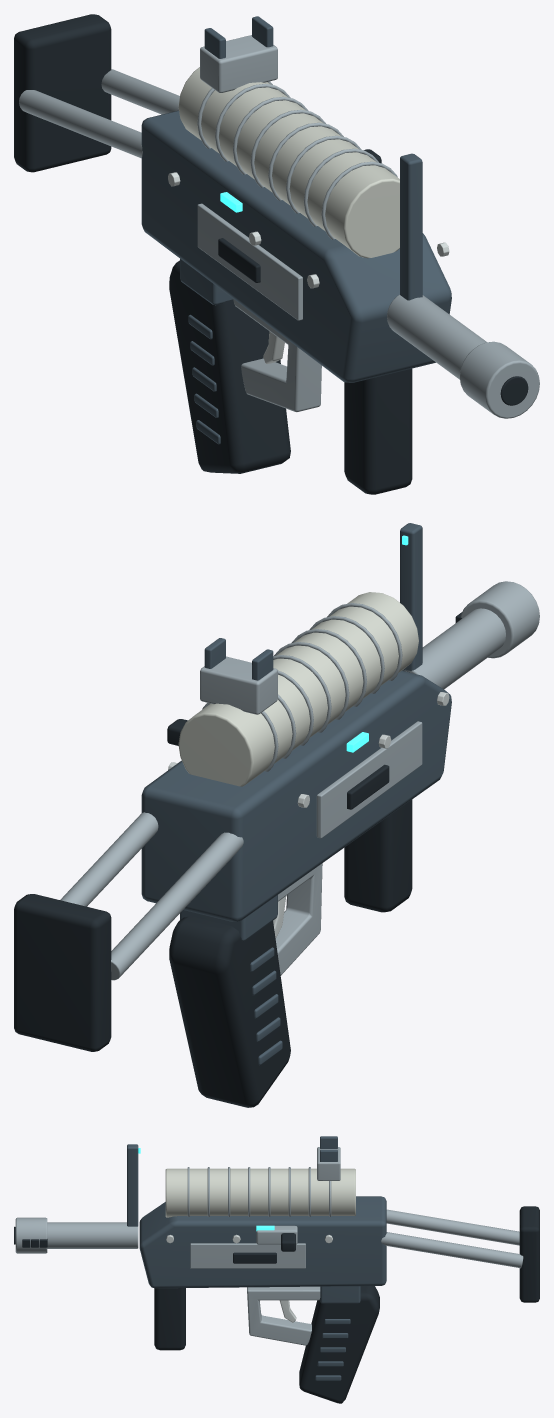
File: weapon_04.glb
3 renders of one model, top to bottom at view 1: azimuth 30°, elevation 25°; view 2: azimuth 150°, elevation 25°; view 3: azimuth 270°, elevation 25°, orthographic. The views are drawn at different scales.
Visible parts, largest first — view 1: receiver / Cerakote midnight, receiver / Titanium, receiver / Elastomer, magazine / Ceramic, pistol_grip / Elastomer, magazine / Titanium, pistol_grip / Cerakote midnight, receiver / Aluminium; view 2: receiver / Cerakote midnight, receiver / Titanium, receiver / Elastomer, magazine / Ceramic, pistol_grip / Elastomer, magazine / Titanium, pistol_grip / Cerakote midnight, receiver / Aluminium; view 3: receiver / Cerakote midnight, receiver / Titanium, magazine / Ceramic, pistol_grip / Elastomer, receiver / Elastomer, pistol_grip / Cerakote midnight, magazine / Titanium, charging_handle / Titanium, receiver / Aluminium.
Boxes of the visible parts, left/top/right/bottom form: receiver / Cerakote midnight: left=141, top=16, right=451, bottom=382; receiver / Titanium: left=19, top=35, right=539, bottom=418; receiver / Elastomer: left=14, top=14, right=528, bottom=494; magazine / Ceramic: left=178, top=67, right=399, bottom=258; pistol_grip / Elastomer: left=169, top=260, right=290, bottom=473; magazine / Titanium: left=197, top=81, right=397, bottom=239; pistol_grip / Cerakote midnight: left=180, top=259, right=232, bottom=444; receiver / Aluminium: left=168, top=172, right=449, bottom=363; receiver / Cerakote midnight: left=141, top=523, right=451, bottom=921; receiver / Titanium: left=60, top=581, right=539, bottom=980; receiver / Elastomer: left=14, top=612, right=461, bottom=1051; magazine / Ceramic: left=178, top=592, right=418, bottom=786; pistol_grip / Elastomer: left=169, top=916, right=290, bottom=1107; magazine / Titanium: left=202, top=603, right=402, bottom=771; pistol_grip / Cerakote midnight: left=180, top=895, right=282, bottom=1064; receiver / Aluminium: left=168, top=692, right=449, bottom=938; receiver / Cerakote midnight: left=127, top=1136, right=386, bottom=1288; receiver / Titanium: left=15, top=1147, right=523, bottom=1345; magazine / Ceramic: left=165, top=1168, right=355, bottom=1217; pistol_grip / Elastomer: left=299, top=1286, right=379, bottom=1403; receiver / Elastomer: left=14, top=1206, right=539, bottom=1350; pistol_grip / Cerakote midnight: left=315, top=1286, right=360, bottom=1380; magazine / Titanium: left=187, top=1167, right=331, bottom=1216; charging_handle / Titanium: left=256, top=1225, right=297, bottom=1244; receiver / Aluminium: left=166, top=1234, right=332, bottom=1322.
Size of the model in its own units: 0.194 by 0.4851 by 0.911.
